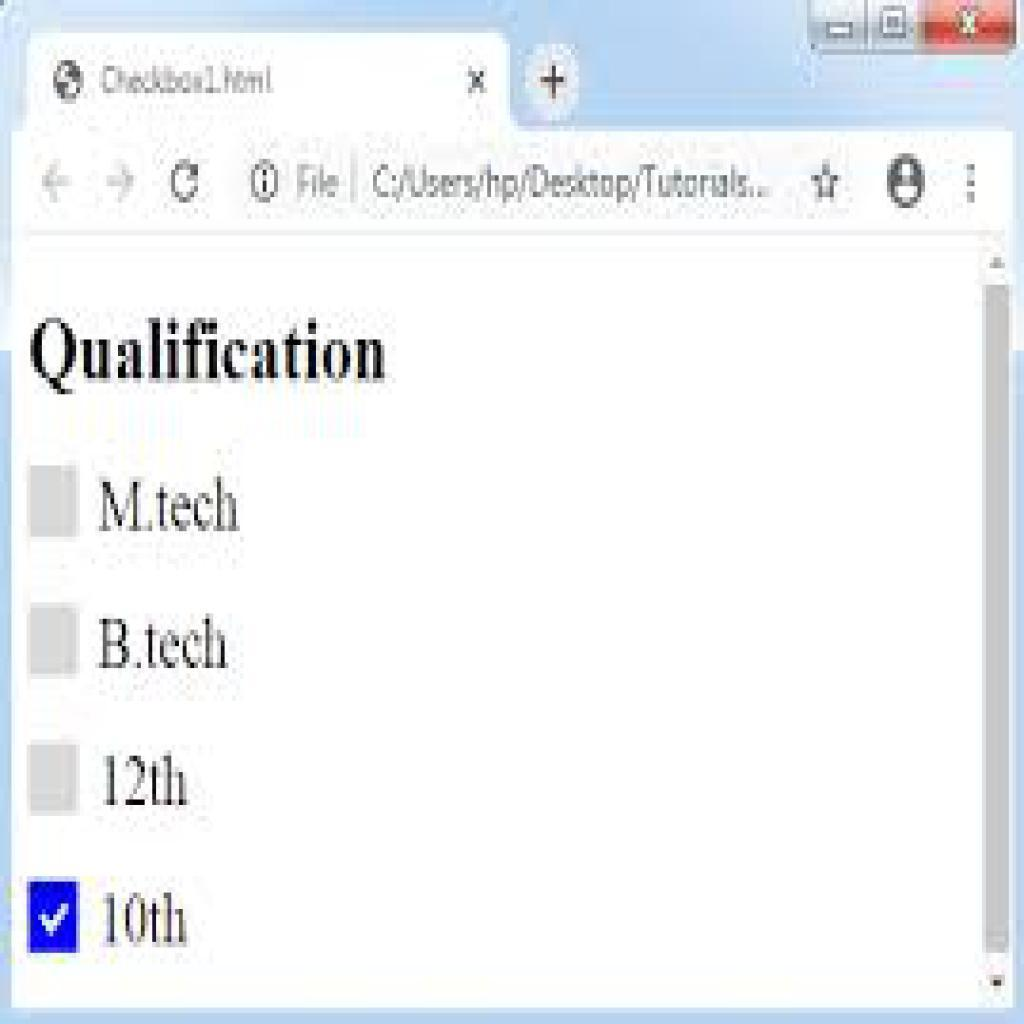checkbox: (28, 741, 83, 817), (27, 880, 82, 955), (31, 605, 78, 677), (29, 469, 78, 536)
label: (23, 312, 388, 397), (96, 474, 243, 538), (102, 610, 229, 678), (99, 750, 191, 817), (103, 889, 195, 953)
